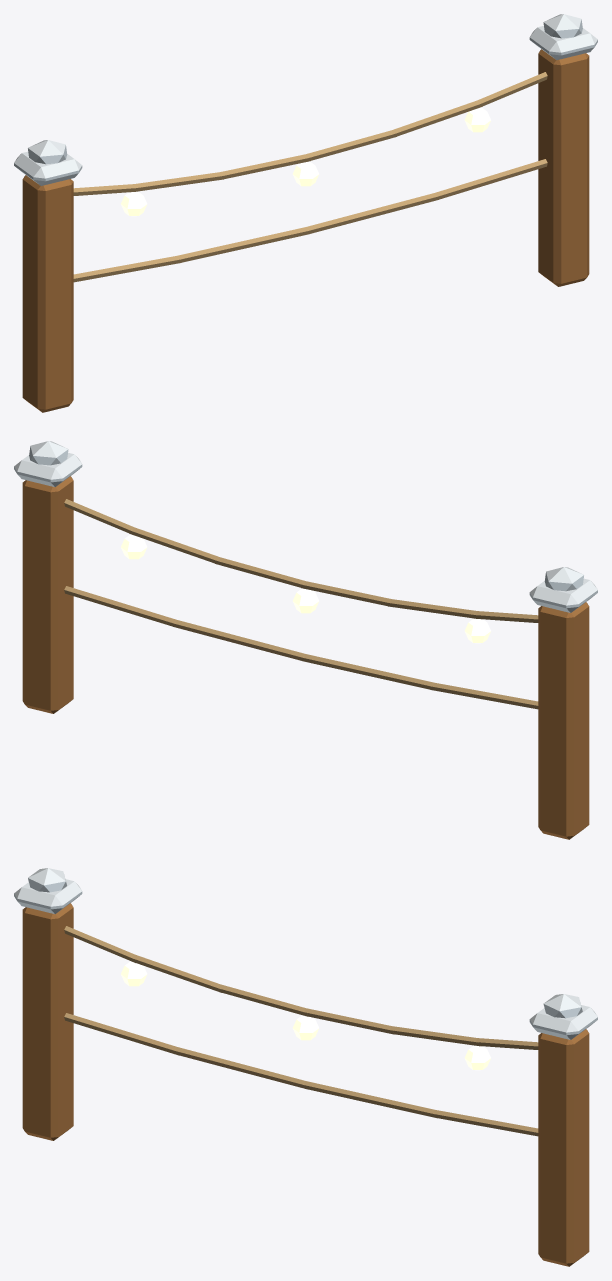
Rendered from arena_boundary_fence.glb.
3 renders of one model, top to bottom at view 1: azimuth 30°, elevation 25°; view 2: azimuth 150°, elevation 25°; view 3: azimuth 330°, elevation 25°, orthographic.
Visible parts, largest first — view 1: arena_boundary_fence; view 2: arena_boundary_fence; view 3: arena_boundary_fence.
Boxes of the visible parts, x1,y1,x2,y2 form: arena_boundary_fence: (14, 14, 597, 412); arena_boundary_fence: (14, 441, 597, 839); arena_boundary_fence: (14, 868, 597, 1266).
Bounding box in the file's own units: 2.19 × 0.98 × 0.19.
